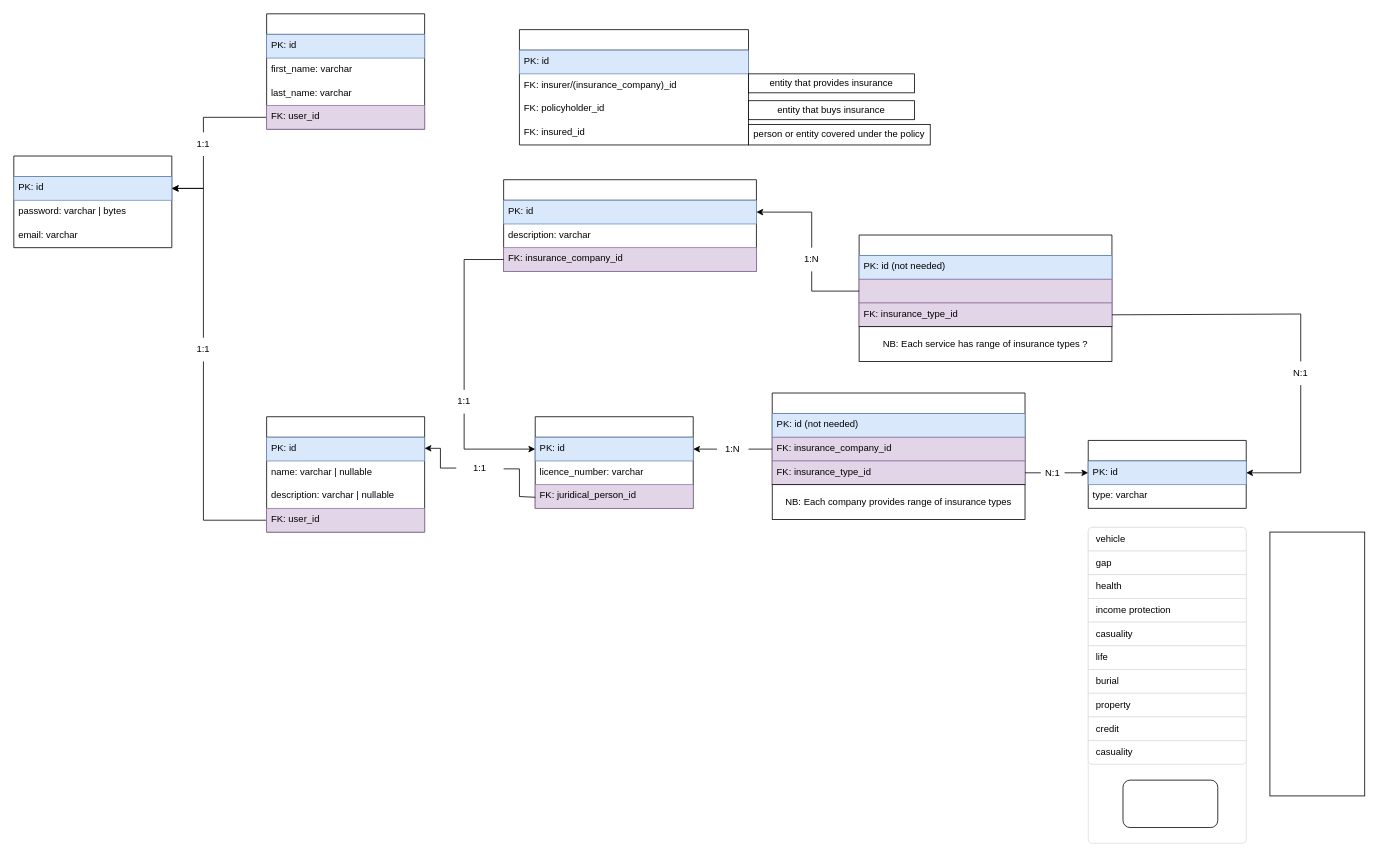
The diagram is 1379 pixels wide and 857 high, and some of its shapes have lost their labels. Each missing label, with the box of its shape:
FK: service_id: (858, 278, 1112, 303)
insurance_company: (534, 416, 693, 508)
insurance_company_and_insurance_types: (771, 392, 1025, 485)
insurance_types: (1087, 440, 1246, 508)
juridical/legal_person: (266, 416, 425, 532)
physical/natural_person: (266, 13, 425, 129)
service: (503, 179, 756, 271)
service_and_insurance_types: (858, 234, 1112, 327)
TODO: Has more groups & subgroups: (1122, 779, 1218, 828)
transaction: (519, 29, 749, 145)
user: (13, 155, 172, 248)
Word groups / Improved search: (1269, 531, 1365, 796)
